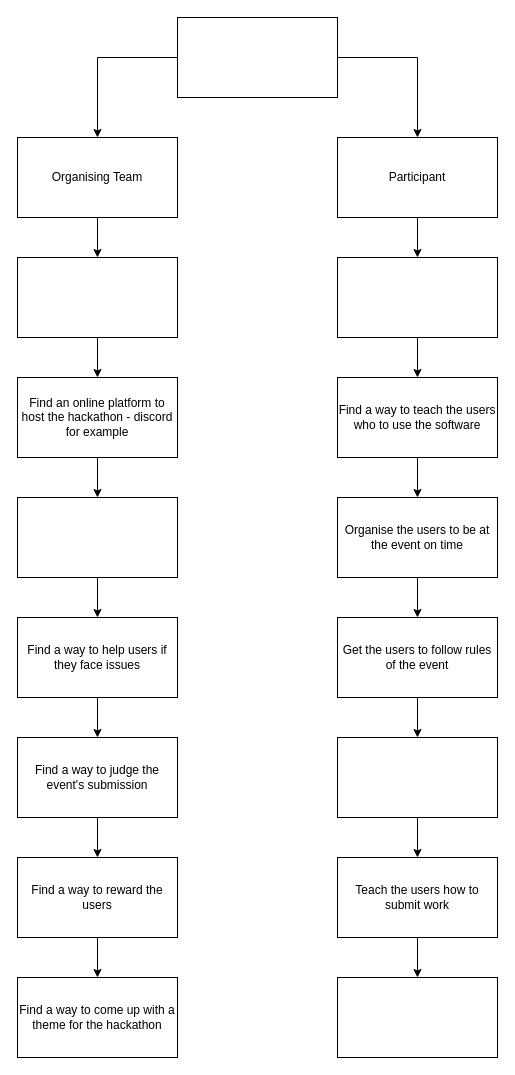
The diagram is 515 pixels wide and 1075 high, and some of its shapes have lost their labels. The centre of each missing label's shape, as x and y in pixels:
"Explain to the users how they will be rewarded" goes at [417,1017].
"Find a way for the users to acquire the required software" goes at [417,297].
"Find a way for users to submit work - github/discord" goes at [97,537].
"Find a way to make users do the event task" goes at [417,777].
"Instruction set" goes at [257,57].
"The hackathon is online" goes at [97,297].
